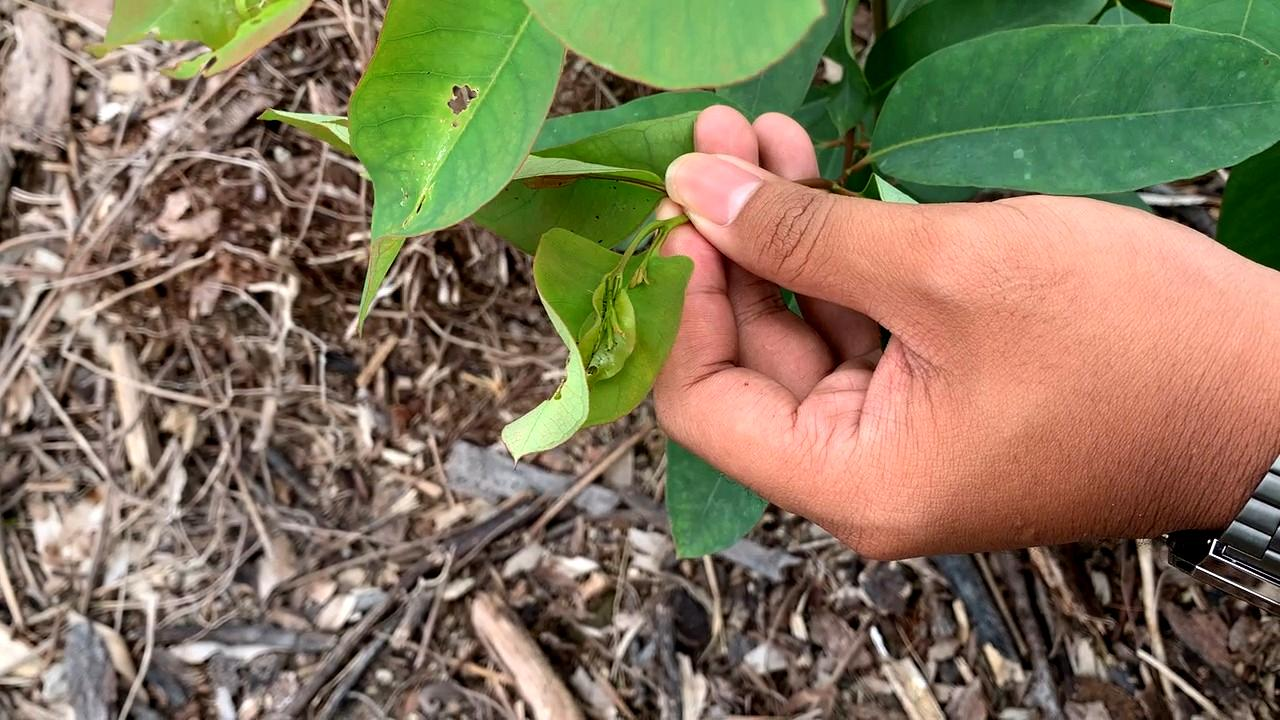Leaf Roller - Leaf: (560, 247, 665, 423)
